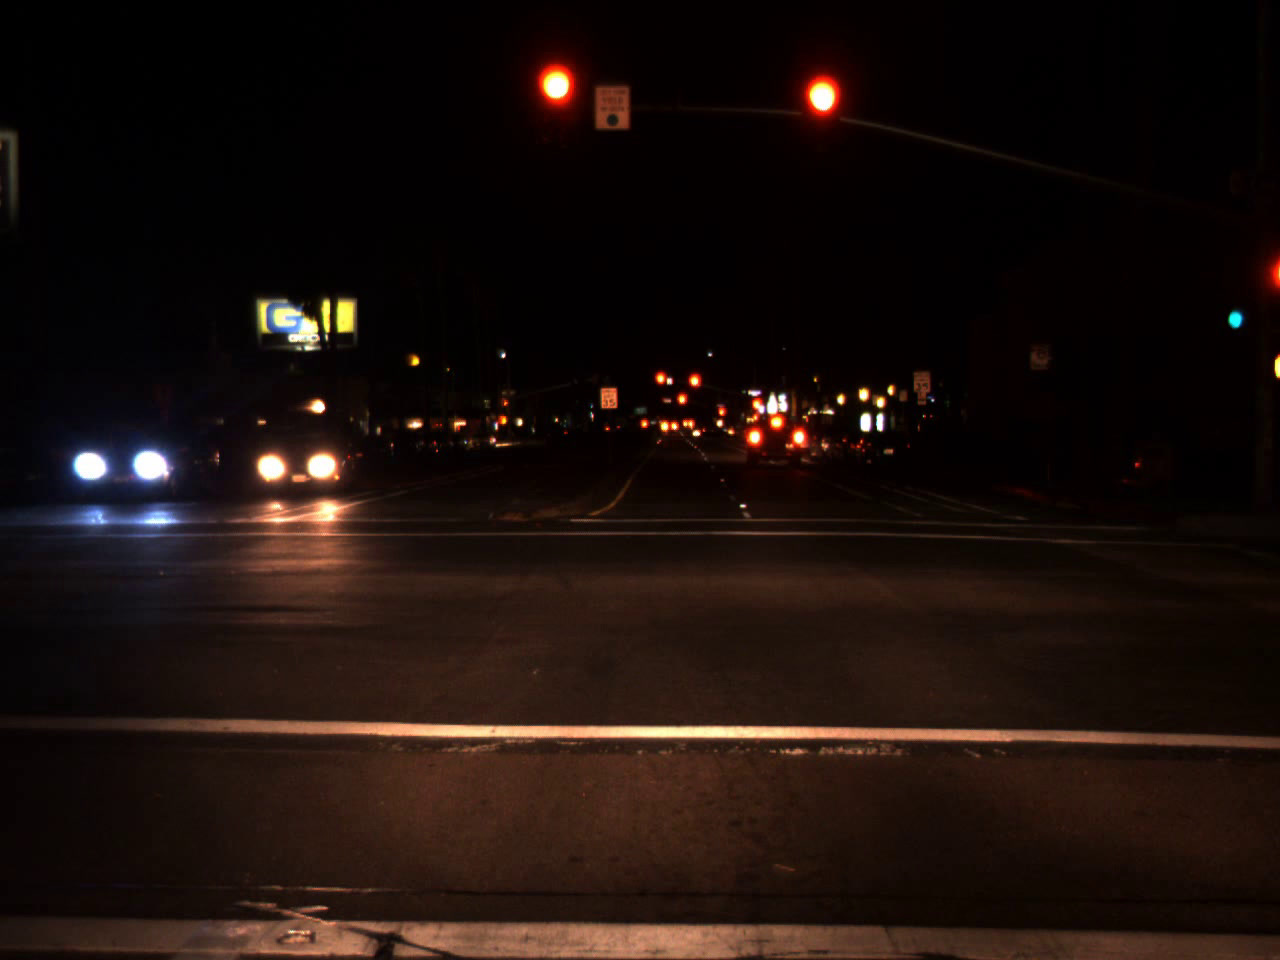stop: (536, 65, 577, 143), (802, 75, 841, 153), (686, 371, 703, 403), (653, 369, 668, 401), (676, 391, 688, 418), (750, 396, 763, 412), (717, 406, 727, 427), (502, 400, 508, 410)
